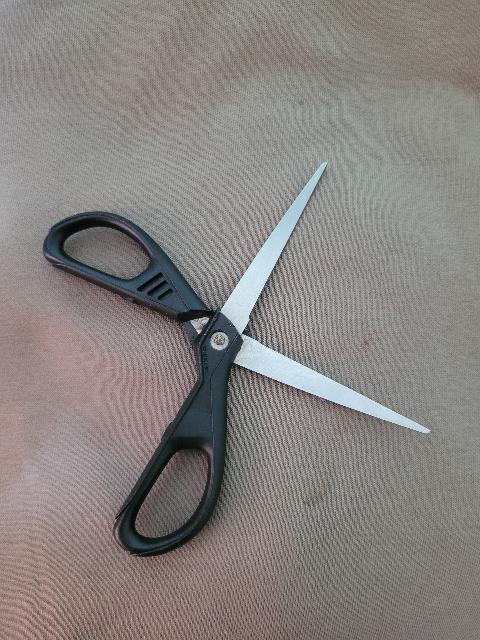Metal: (237, 336, 432, 435), (222, 163, 329, 334)
Organik: (44, 206, 236, 559)
